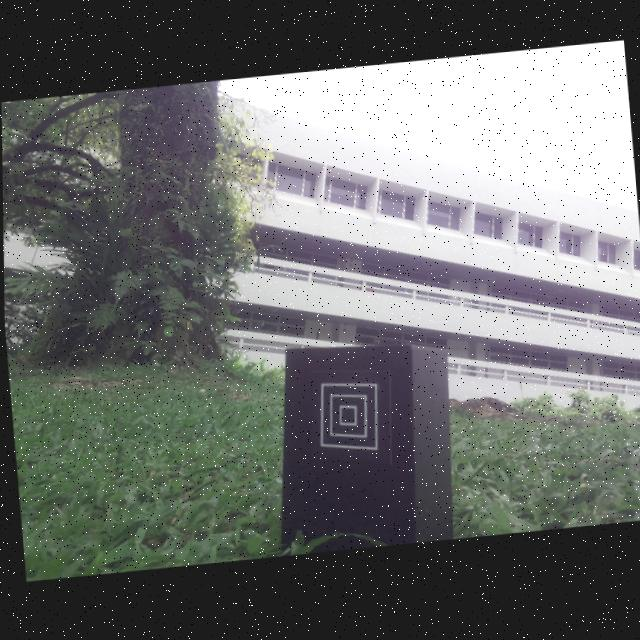BULLSEYE: (319, 382, 377, 453)
